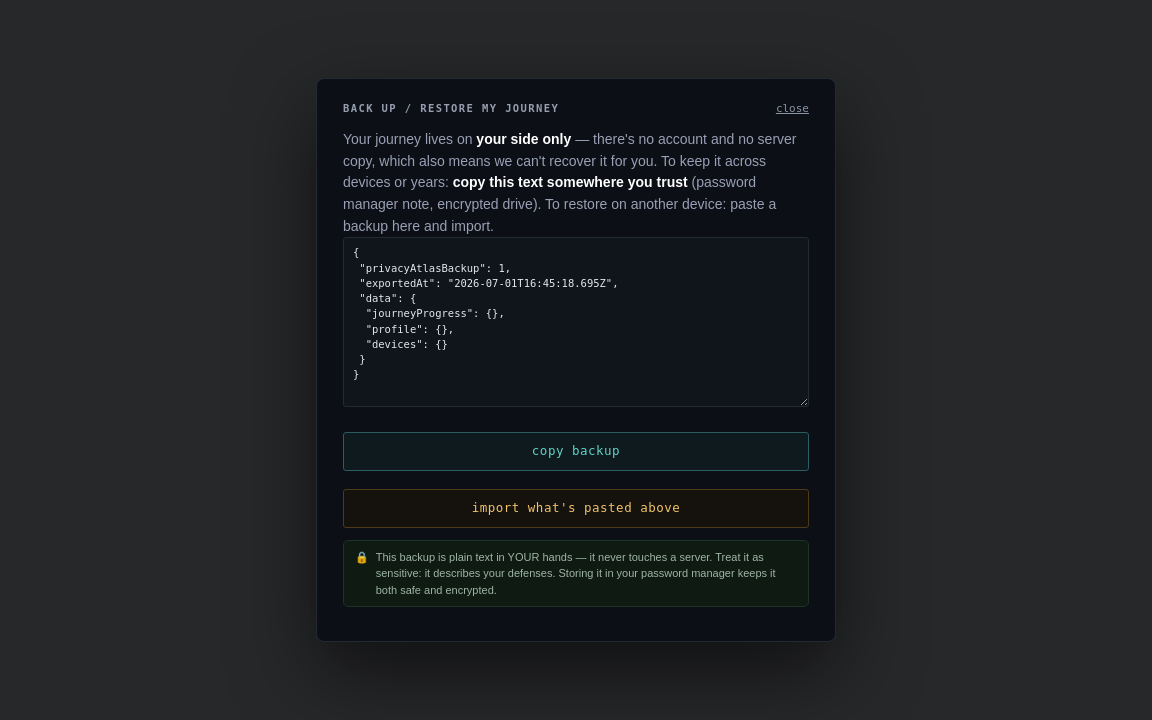
Test case: BackupModal import with invalid JSON shows error message via importBackup validation
# Override with invalid JSON — use fireEvent to avoid userEvent special-char parsing of braces
Replace the text in the text box with "not valid json at all" at {"x": 576, "y": 322}, box [343,238,809,408]
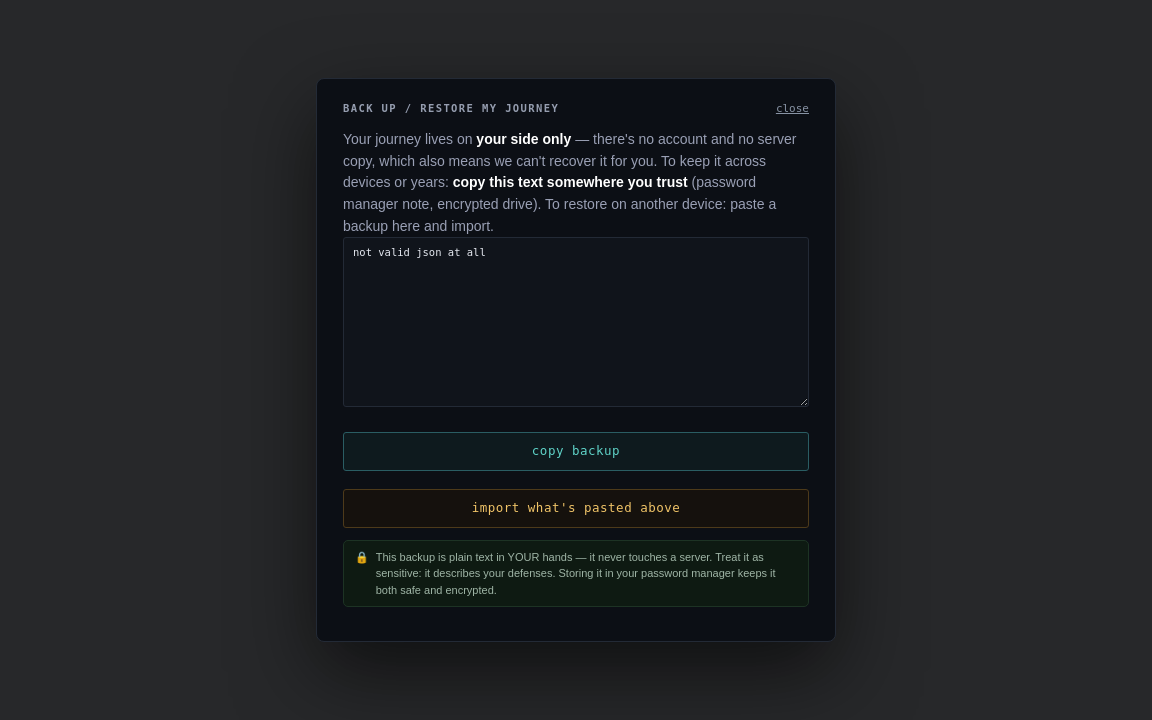
# Click the import button
Click the button "import what's pasted above" at {"x": 576, "y": 509}, box [343,489,809,528]
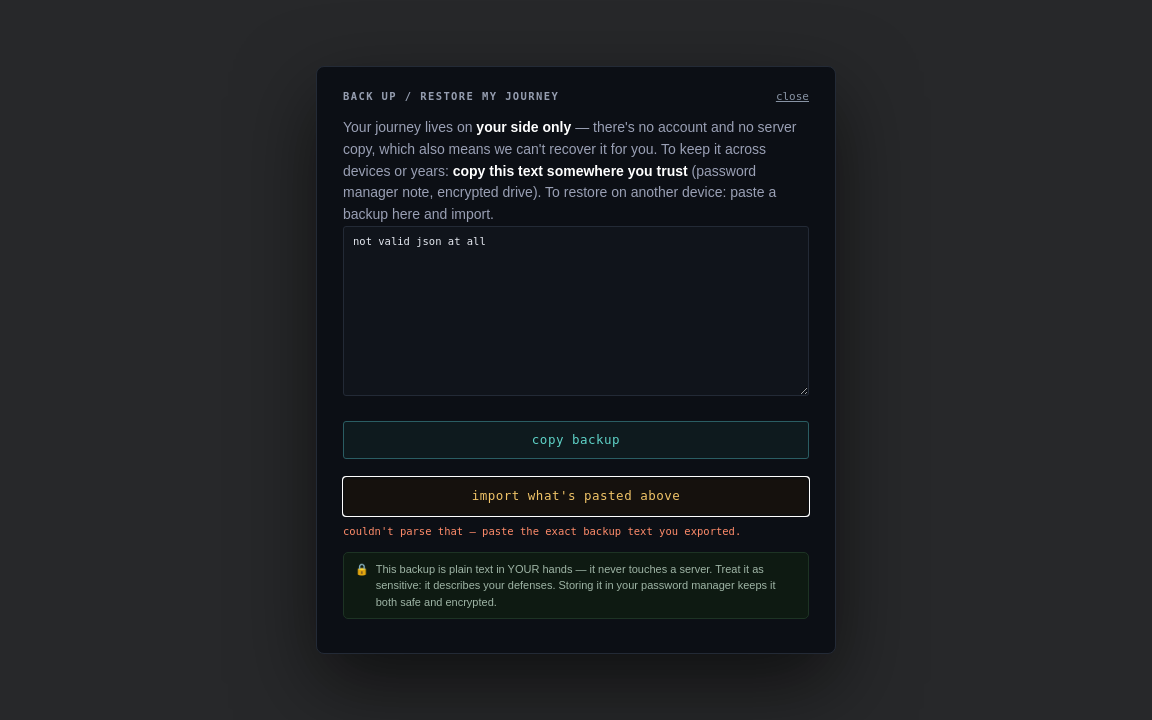
Result: the text "couldn't parse that" is shown at [343,525,741,537]
